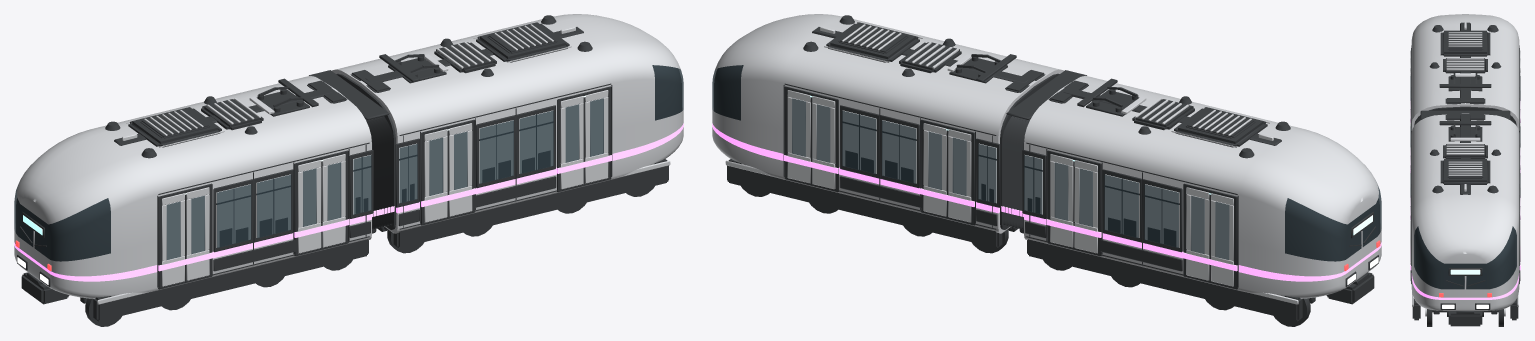
The model's file is train158.glb.
The picture shows the model from 3 angles, left to right: view 1: azimuth 30°, elevation 25°; view 2: azimuth 150°, elevation 25°; view 3: azimuth 270°, elevation 25°; orthographic projection. The views are drawn at different scales.
Visible parts, largest first — view 1: t158-car-a, t158-car-b, t158-gangway; view 2: t158-car-a, t158-car-b, t158-gangway; view 3: t158-car-b, t158-car-a, t158-gangway.
Part boxes in pixels (x1,y1,x2,y2): t158-car-a: [14, 75, 373, 326]; t158-car-b: [332, 14, 683, 253]; t158-gangway: [309, 70, 394, 233]; t158-car-a: [1022, 75, 1381, 326]; t158-car-b: [712, 14, 1063, 253]; t158-gangway: [1001, 70, 1086, 233]; t158-car-b: [1410, 113, 1520, 326]; t158-car-a: [1410, 14, 1520, 172]; t158-gangway: [1414, 110, 1516, 125].
Size of the model in its own units: 11.15 by 2.79 by 2.23.
